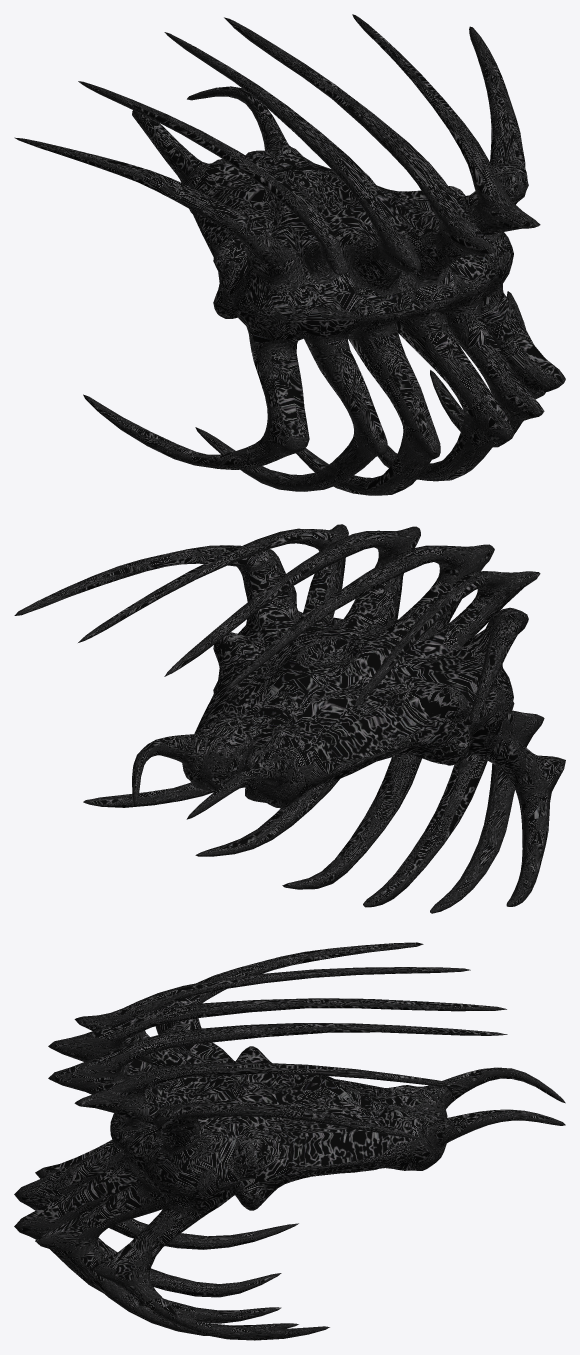
Rendered from Shadow Scout.fbx.
3 renders of one model, top to bottom at view 1: azimuth 30°, elevation 25°; view 2: azimuth 150°, elevation 25°; view 3: azimuth 270°, elevation 25°, orthographic. The views are drawn at different scales.
Visible parts, largest first — view 1: Shadow Scout; view 2: Shadow Scout; view 3: Shadow Scout.
Part boxes in pixels (x1,y1,x2,y2): Shadow Scout: (14, 14, 565, 495); Shadow Scout: (14, 524, 565, 913); Shadow Scout: (14, 942, 565, 1340).
Bounding box in the file's own units: 237 × 169 × 283.
Materials: 1 (1 with a texture image).
